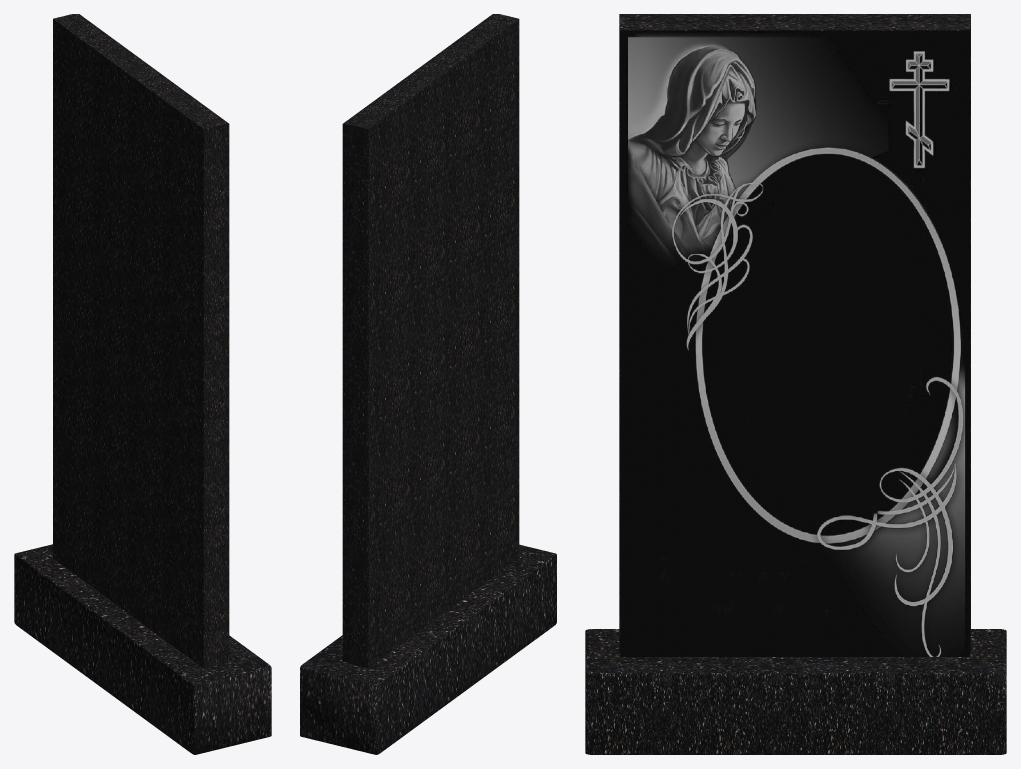
Rendered from Фон 50 [granite_1_orthodox] (100).glb.
3 renders of one model, left to right at view 1: azimuth 30°, elevation 25°; view 2: azimuth 150°, elevation 25°; view 3: azimuth 270°, elevation 25°, orthographic. The views are drawn at different scales.
Parts seen in each view (by area): view 1: Cube.006, Куб.006; view 2: Cube.006, Куб.006; view 3: Cube.006, Куб.006.
Part boxes in pixels (box(x1,y1,x2,y2)): Cube.006: box(53, 14, 229, 668); Куб.006: box(14, 544, 271, 754); Cube.006: box(342, 14, 519, 667); Куб.006: box(300, 544, 556, 754); Cube.006: box(619, 14, 970, 656); Куб.006: box(585, 629, 1006, 754).
Size of the model in its own units: 0.15 by 1.12 by 0.6.
Materials: 2 (2 with a texture image).
